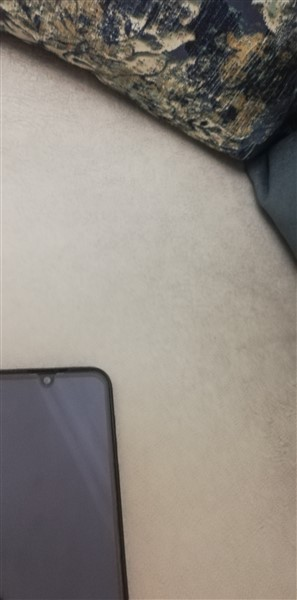telefon: (1, 362, 134, 599)
